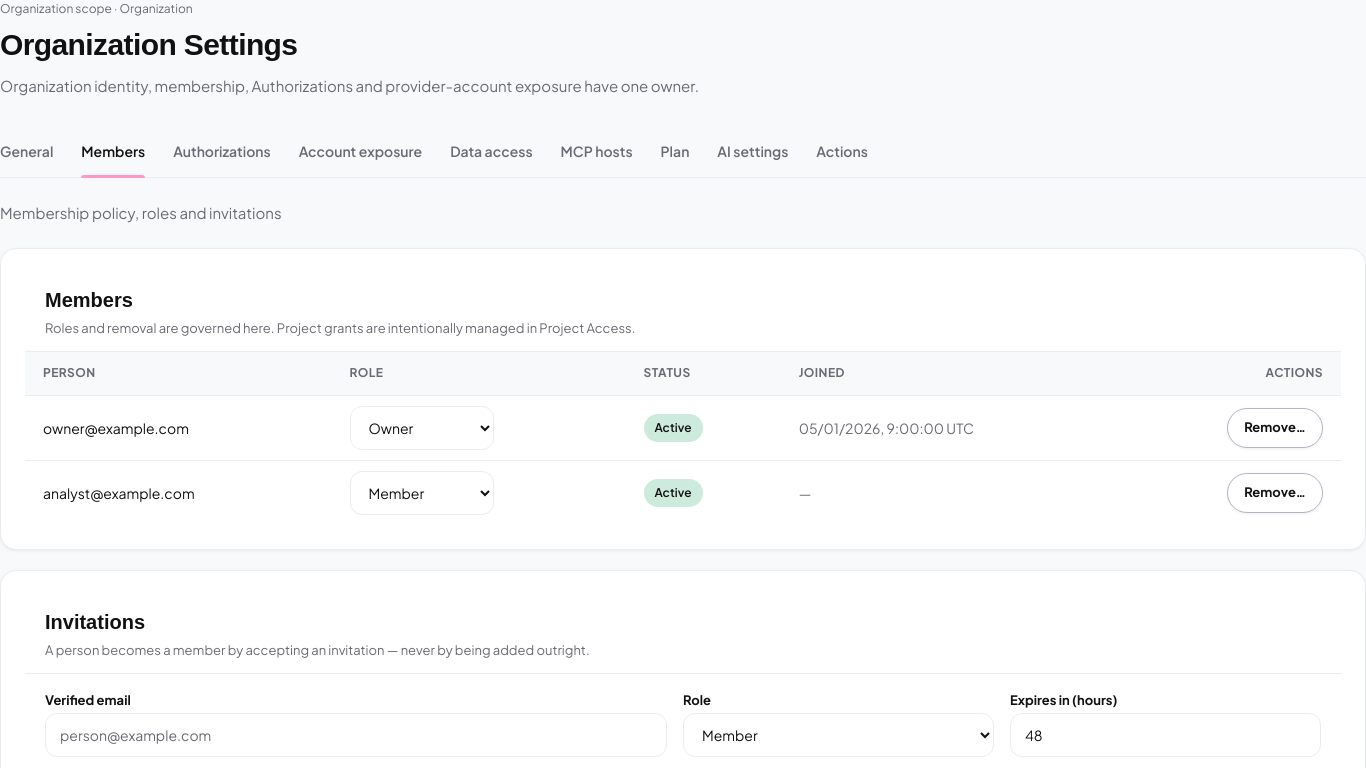
Test: Members — invitations › issues with an Idempotency-Key and shows the single-use link
Type "newcomer@example.com" into the field with test id "invite-identity" at point(356, 734), box top-left (45, 712), bottom-right (667, 756)
(page scrolled)
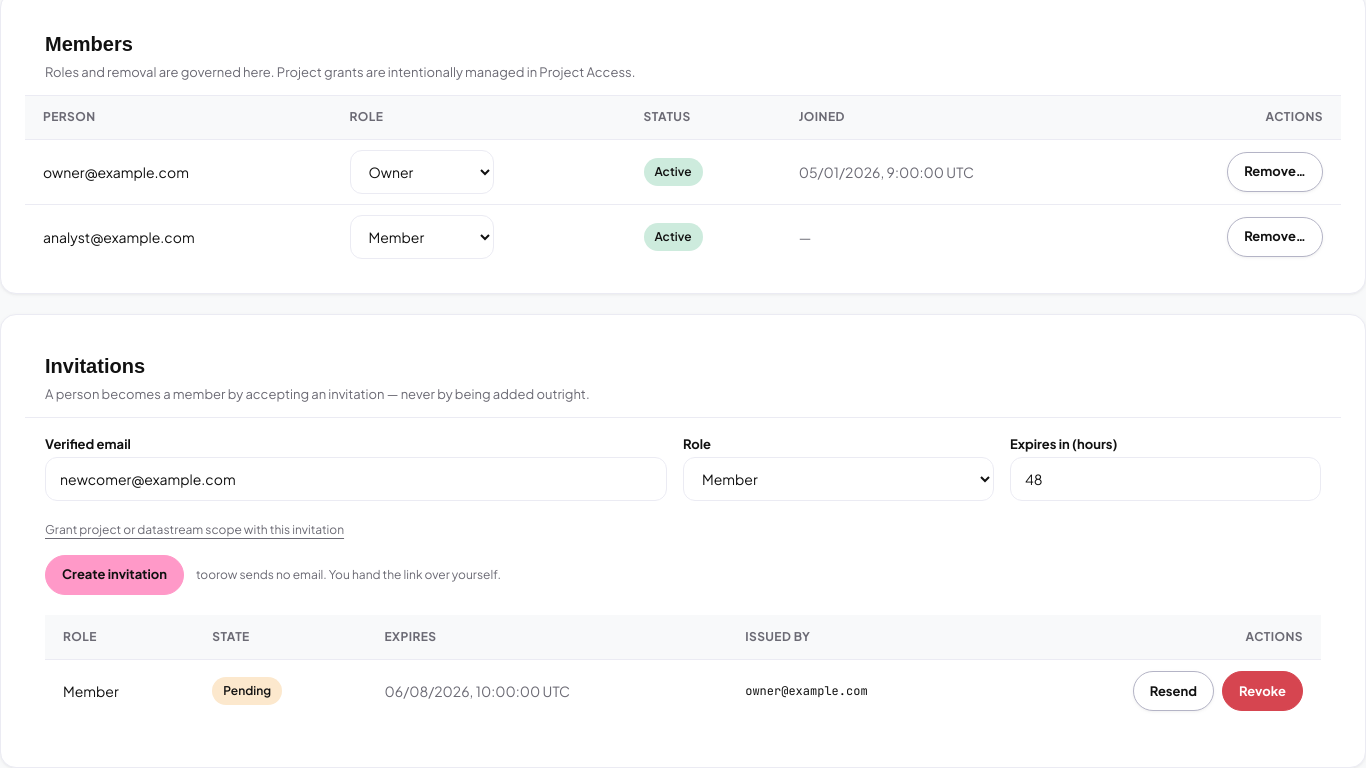
Click the button with test id "invite-submit" at point(114, 575), box top-left (45, 555), bottom-right (184, 595)
(page scrolled)
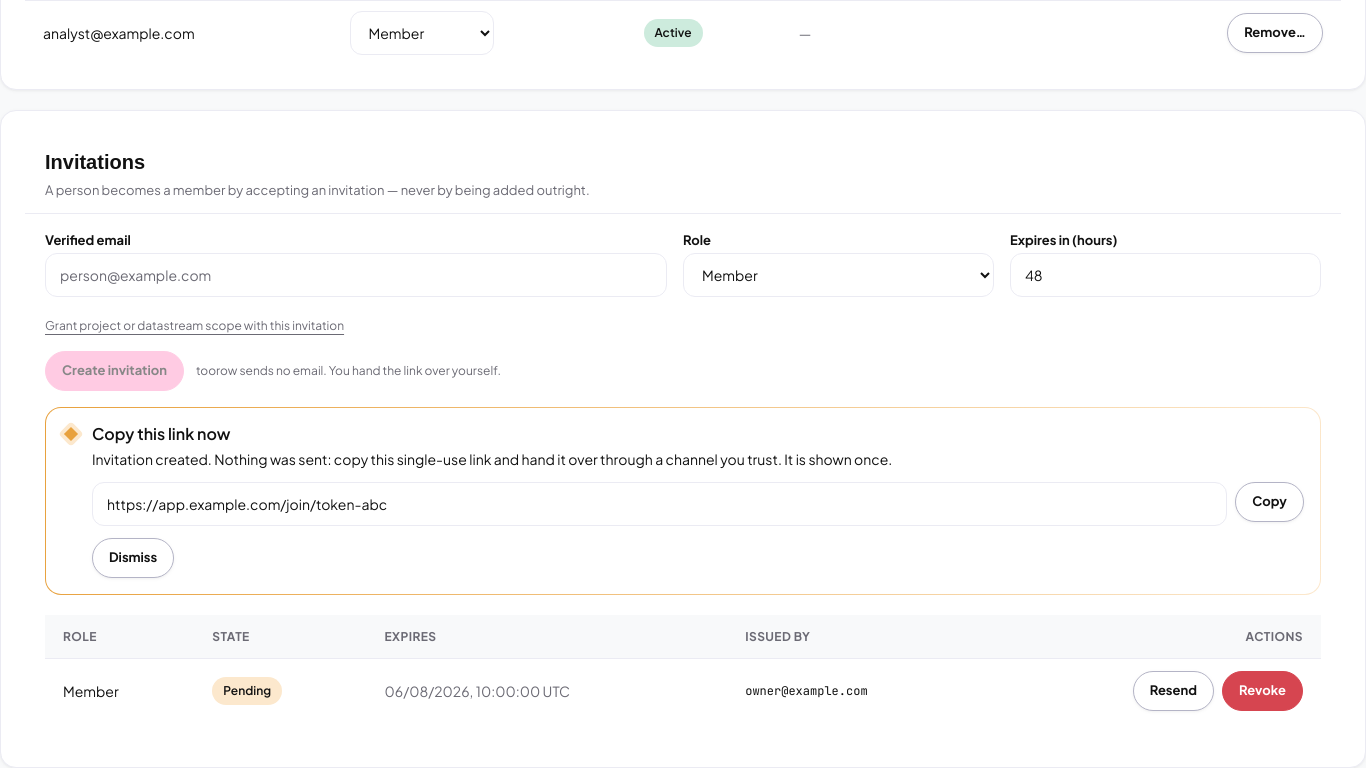
Expected: the field with test id "invite-link" holds "https://app.example.com/join/token-abc", top-left (92, 482), bottom-right (1227, 526)
Expected: the message with test id "invite-handoff" shows "Nothing was sent", top-left (92, 450), bottom-right (892, 468)
